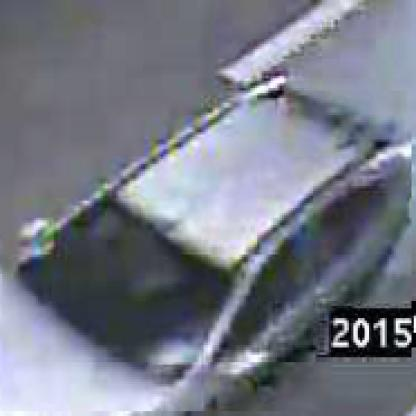car: (3, 92, 415, 415)
